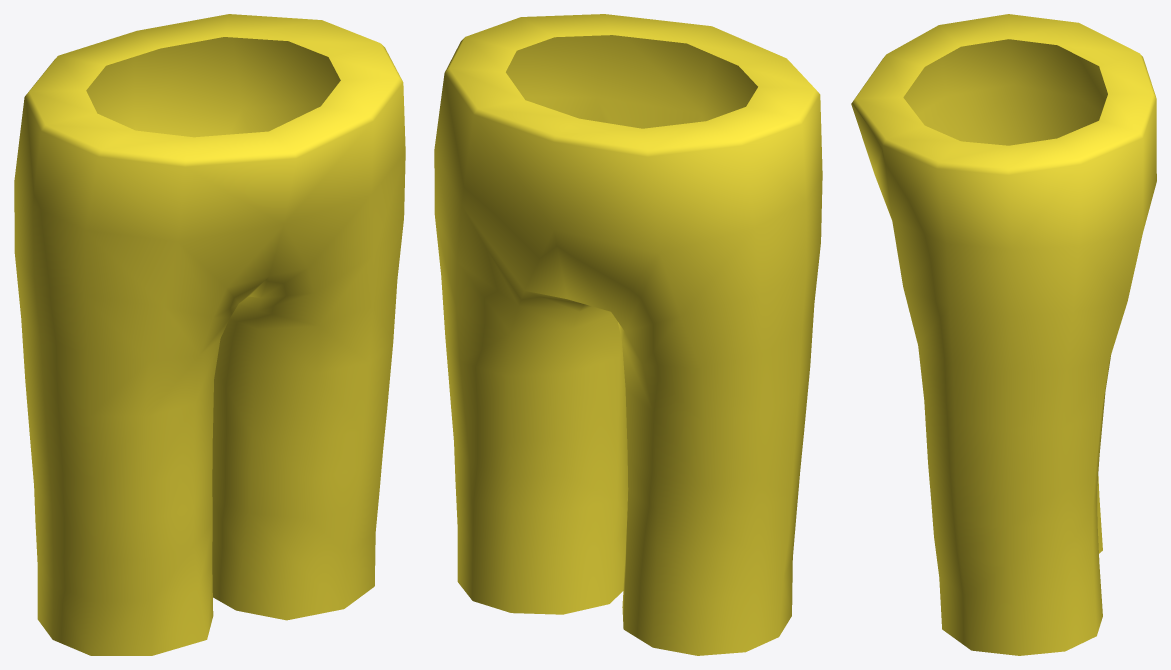
File: Pants_Yellow_005.glb
3 renders of one model, left to right at view 1: azimuth 30°, elevation 25°; view 2: azimuth 150°, elevation 25°; view 3: azimuth 270°, elevation 25°, orthographic. The views are drawn at different scales.
Visible parts, largest first — view 1: Pants_Yellow_005; view 2: Pants_Yellow_005; view 3: Pants_Yellow_005.
Part boxes in pixels (<box>): Pants_Yellow_005: <box>14,14,405,655</box>; Pants_Yellow_005: <box>434,14,822,655</box>; Pants_Yellow_005: <box>851,14,1156,655</box>.
Bounding box in the file's own units: 0.46 × 0.6458 × 0.3616.
Materials: 1 (1 with a texture image).
